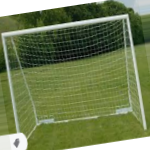goals: (1, 13, 150, 140)
